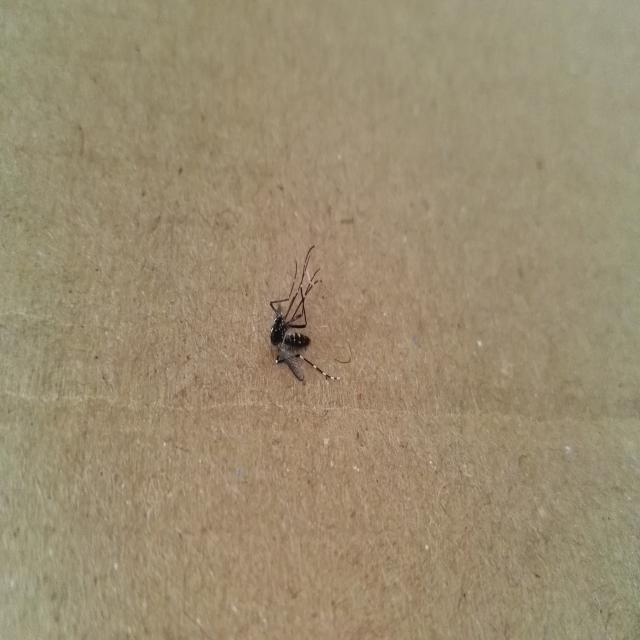albopictus: (261, 243, 345, 396)
